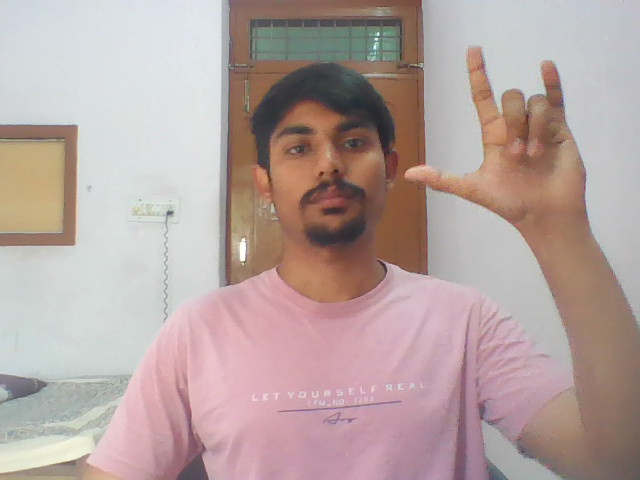I Love You: (401, 33, 614, 234)
